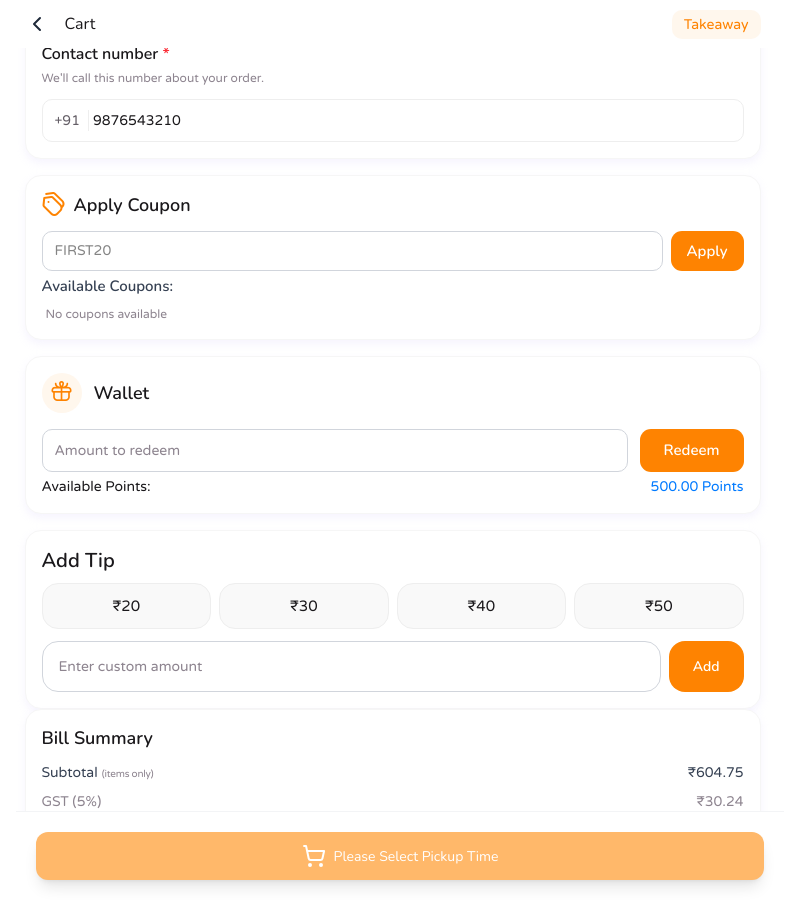
Scenario: Cart — takeaway: wallet points and hand-off › redeeming 0 is refused (greater than zero)
(page scrolled)
Expected: the text "GST (5%)" is shown, [42, 791, 101, 812]
Expected: the text "500.00 Points" is shown, [651, 476, 744, 496]
Type "0" into the number field named "Wallet points to redeem" at (334, 450), box [42, 428, 628, 472]
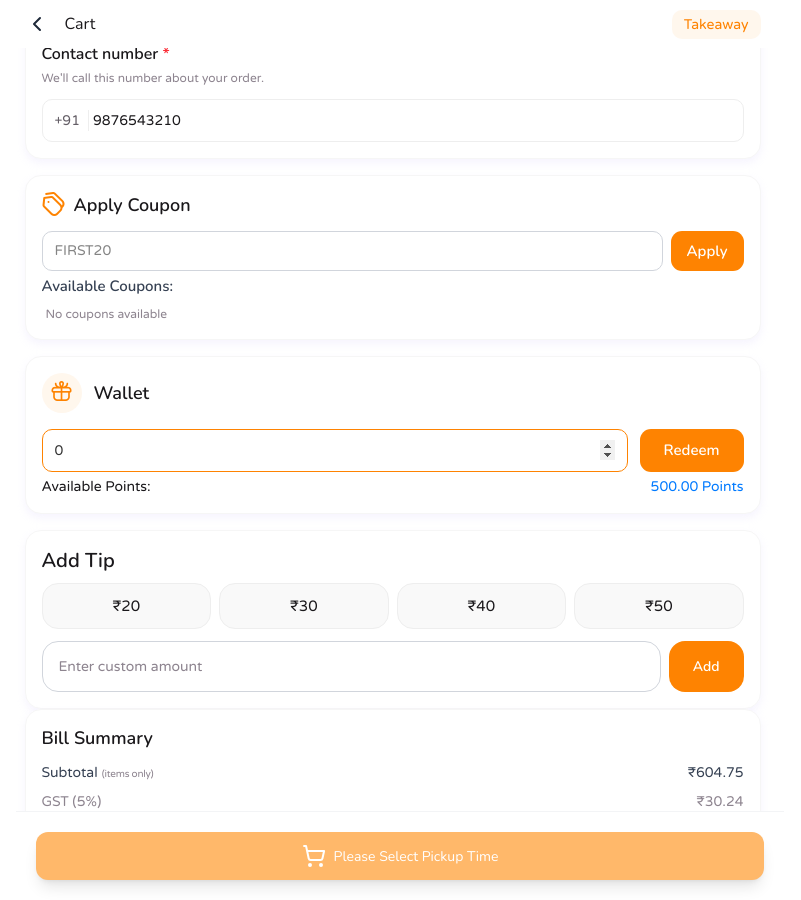
Click the button "Redeem" at (692, 450), box [640, 428, 744, 472]
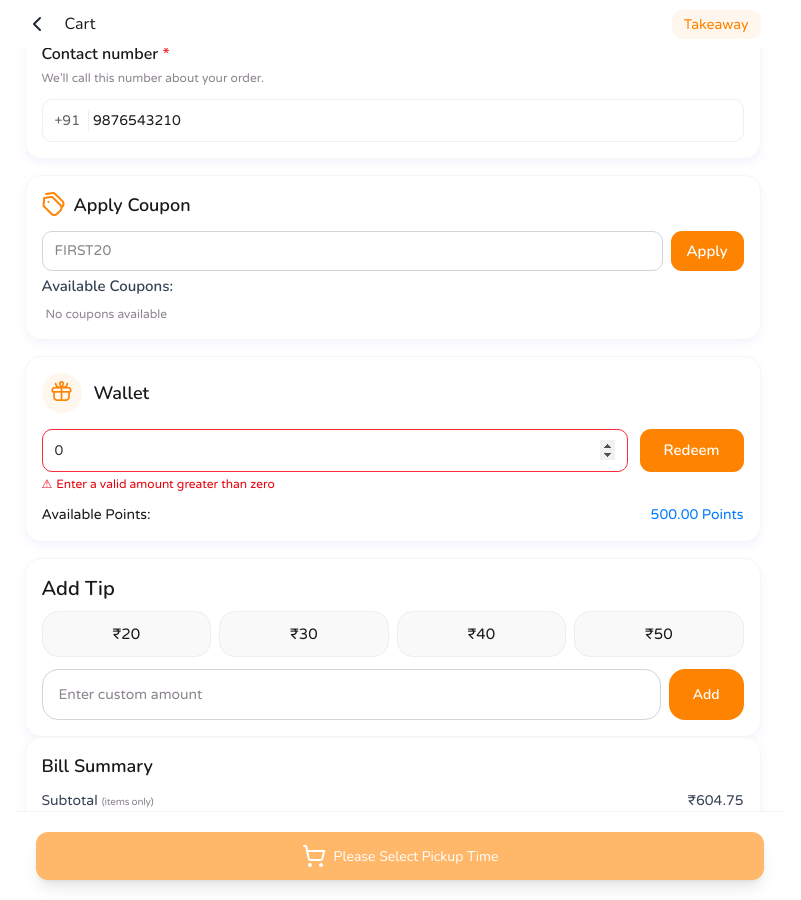
Result: the message shows "greater than zero" at [56, 476, 275, 490]
